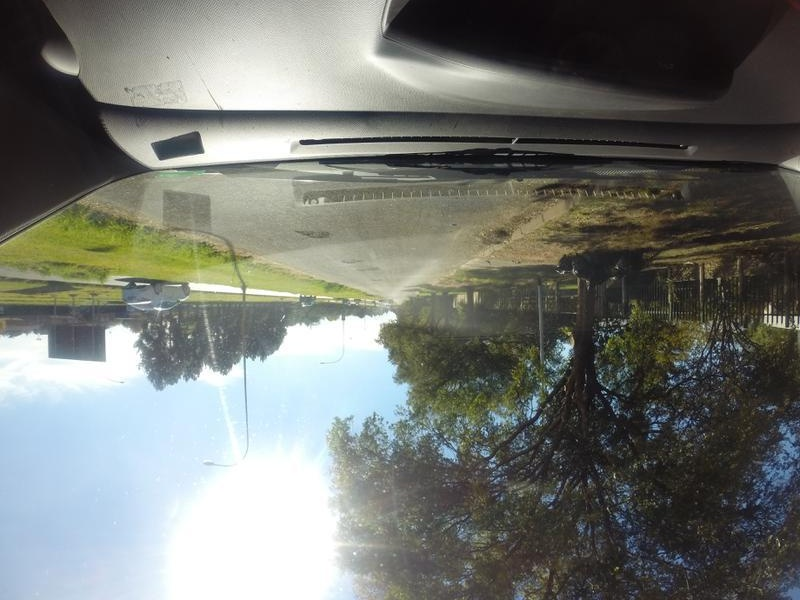pothole: (288, 222, 335, 247), (337, 252, 365, 265), (352, 262, 376, 275)
